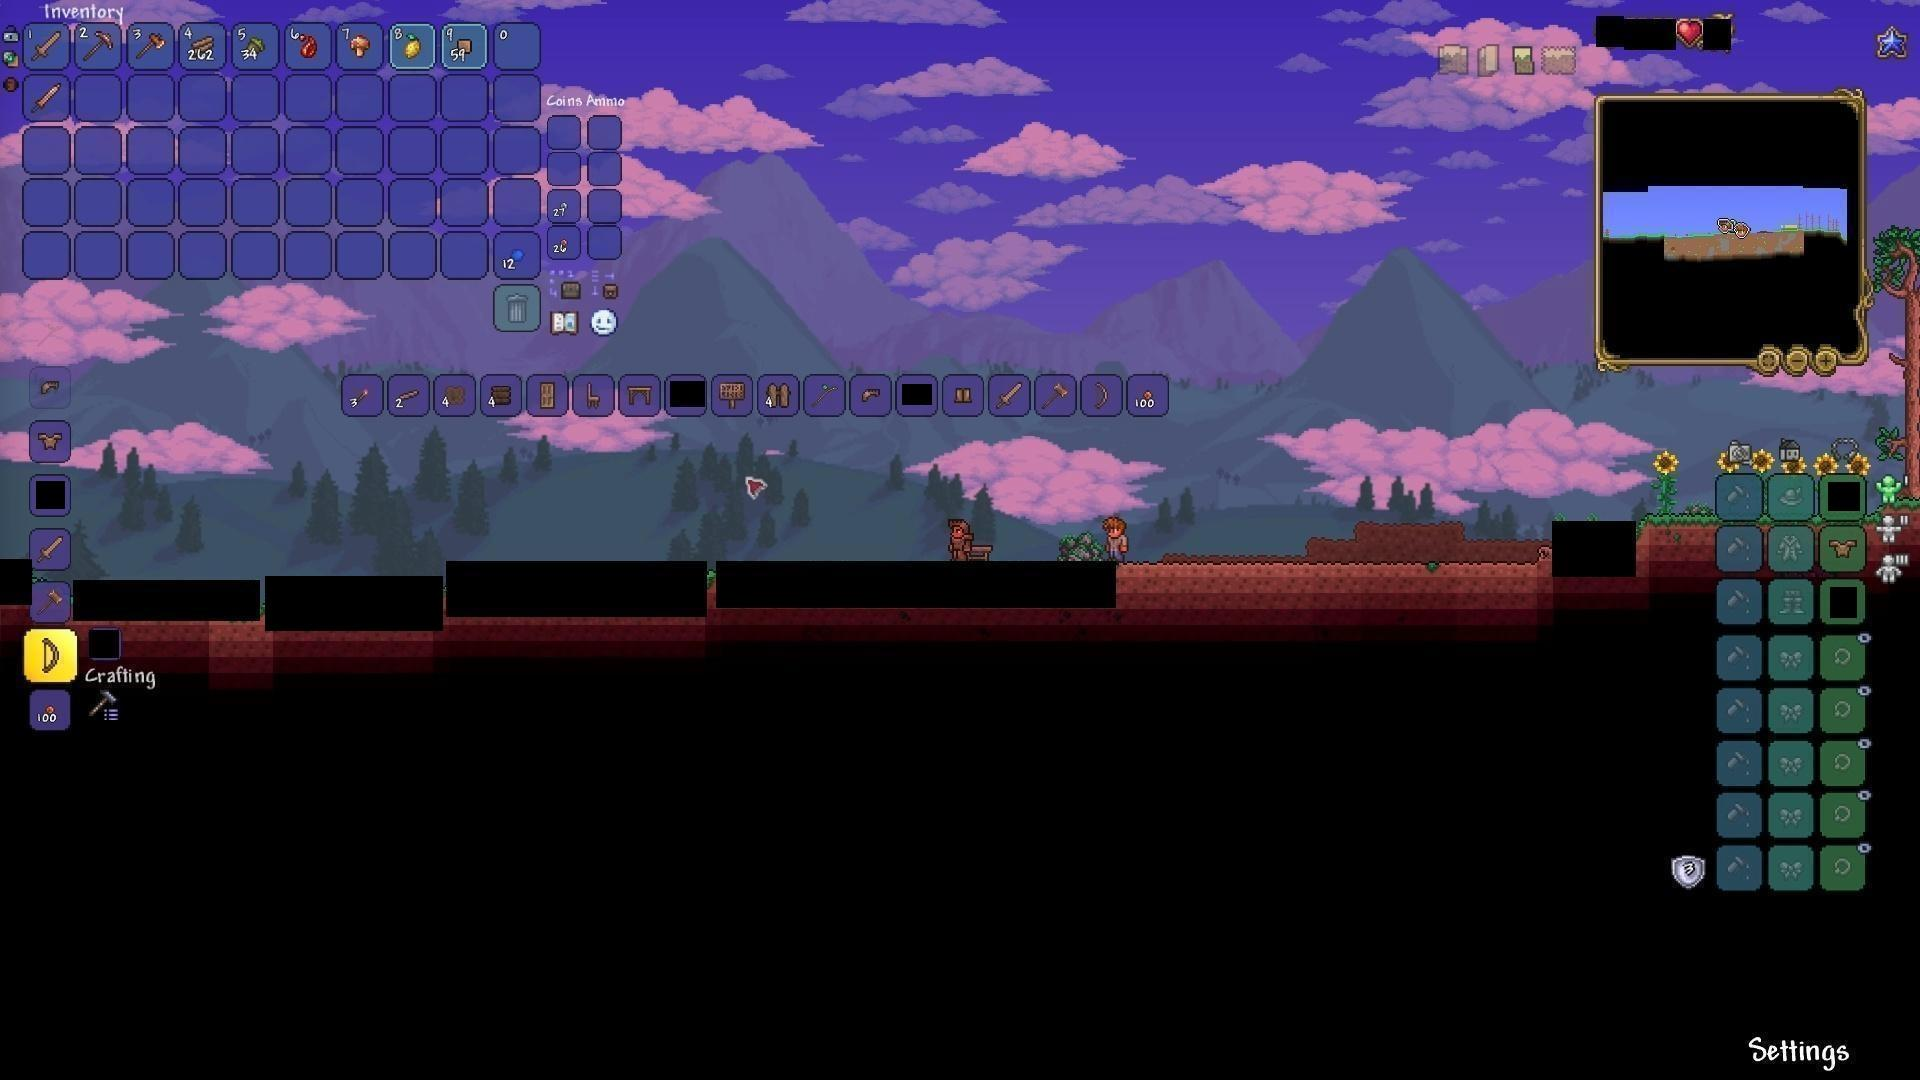breastplate: (1830, 537, 1859, 558), (36, 431, 65, 452)
dirt: (1638, 506, 1716, 555)
heart: (1677, 18, 1704, 49)
helmet: (856, 381, 885, 407), (34, 376, 63, 400)
legs: (952, 381, 975, 407)
tree: (1887, 222, 1920, 496)
wood: (189, 32, 218, 59)
workbench: (967, 542, 996, 564)
